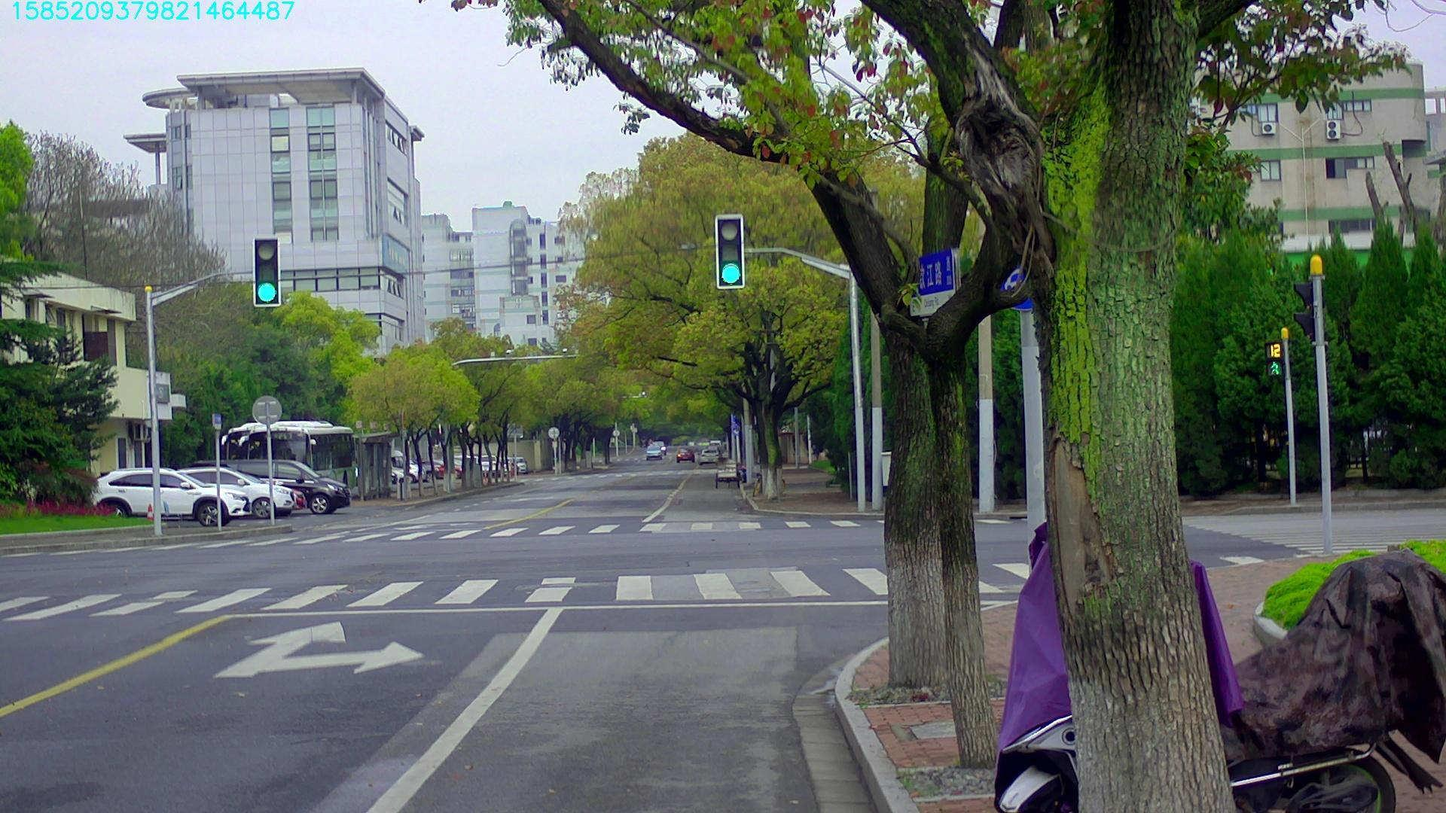green: (717, 217, 743, 287), (253, 237, 279, 304)
